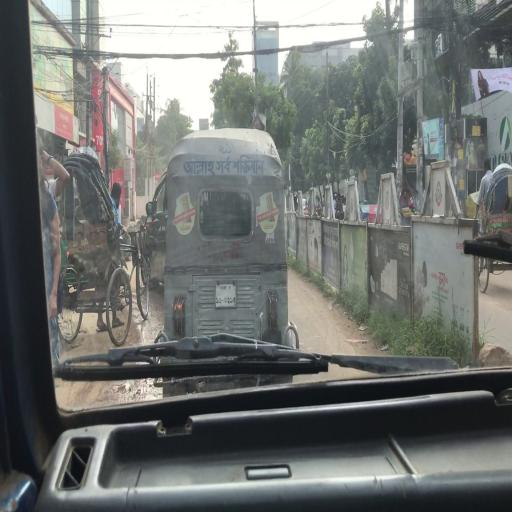minivan: (142, 174, 170, 288)
rickshaw: (59, 157, 150, 348), (476, 165, 512, 297), (399, 187, 418, 226)
three wheelers (CNG): (166, 135, 302, 387)
